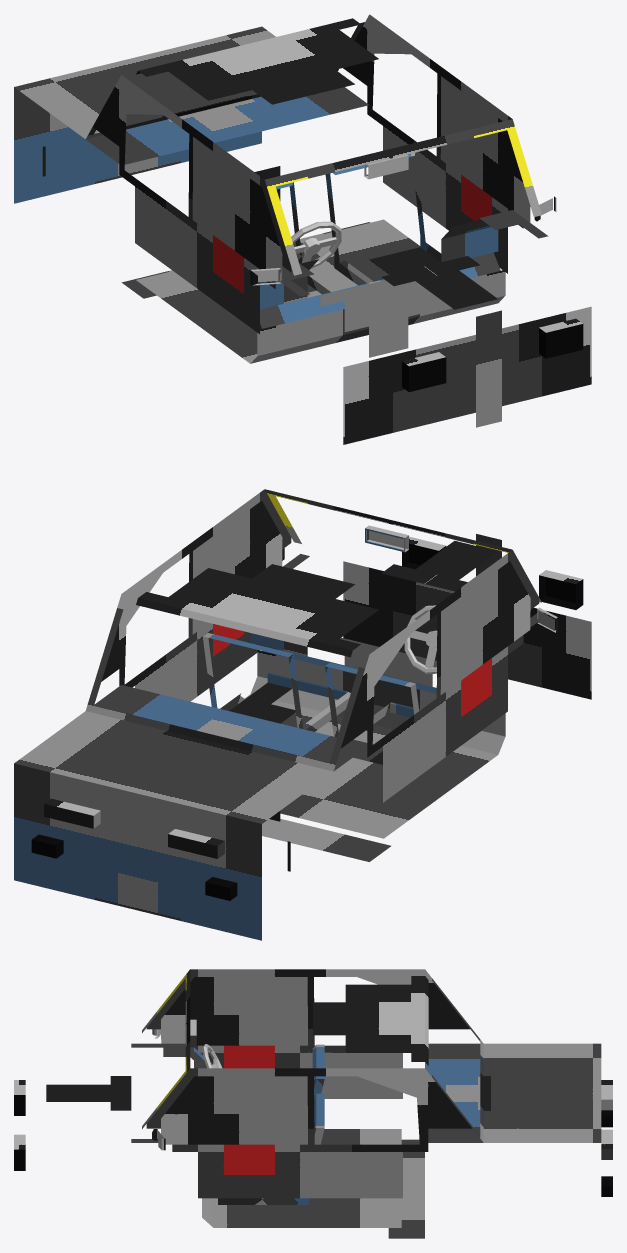
The model's file is sample.obj.
3 views of the same model, one above another, from view 1: azimuth 30°, elevation 25°; view 2: azimuth 150°, elevation 25°; view 3: azimuth 270°, elevation 25° (orthographic). The views are drawn at different scales.
Parts seen in each view (by area): view 1: body, glass, seat, light_head, steering_wheel, body_mirror_rear; view 2: body, glass, seat, light_head, light_tail, light_reverse, steering_wheel, body_mirror_rear; view 3: body, glass, seat, light_head, light_tail, light_reverse.
Boxes of the visible parts, bbox=[...] form: body: bbox=[14, 14, 591, 444]; glass: bbox=[192, 76, 530, 285]; seat: bbox=[260, 152, 441, 329]; light_head: bbox=[402, 318, 583, 391]; steering_wheel: bbox=[291, 221, 341, 268]; body_mirror_rear: bbox=[364, 154, 408, 179]; body: bbox=[14, 489, 591, 940]; glass: bbox=[192, 501, 530, 694]; seat: bbox=[202, 633, 420, 764]; light_head: bbox=[402, 536, 583, 609]; light_tail: bbox=[44, 798, 224, 858]; light_reverse: bbox=[31, 834, 237, 900]; steering_wheel: bbox=[404, 605, 437, 674]; body_mirror_rear: bbox=[365, 525, 408, 552]; body: bbox=[46, 969, 601, 1238]; glass: bbox=[161, 977, 307, 1144]; seat: bbox=[218, 1044, 324, 1204]; light_head: bbox=[14, 1080, 25, 1170]; light_tail: bbox=[601, 1080, 612, 1159]; light_reverse: bbox=[601, 1110, 612, 1196].
Size of the model in its own units: 2.44 by 1.6 by 5.1.
